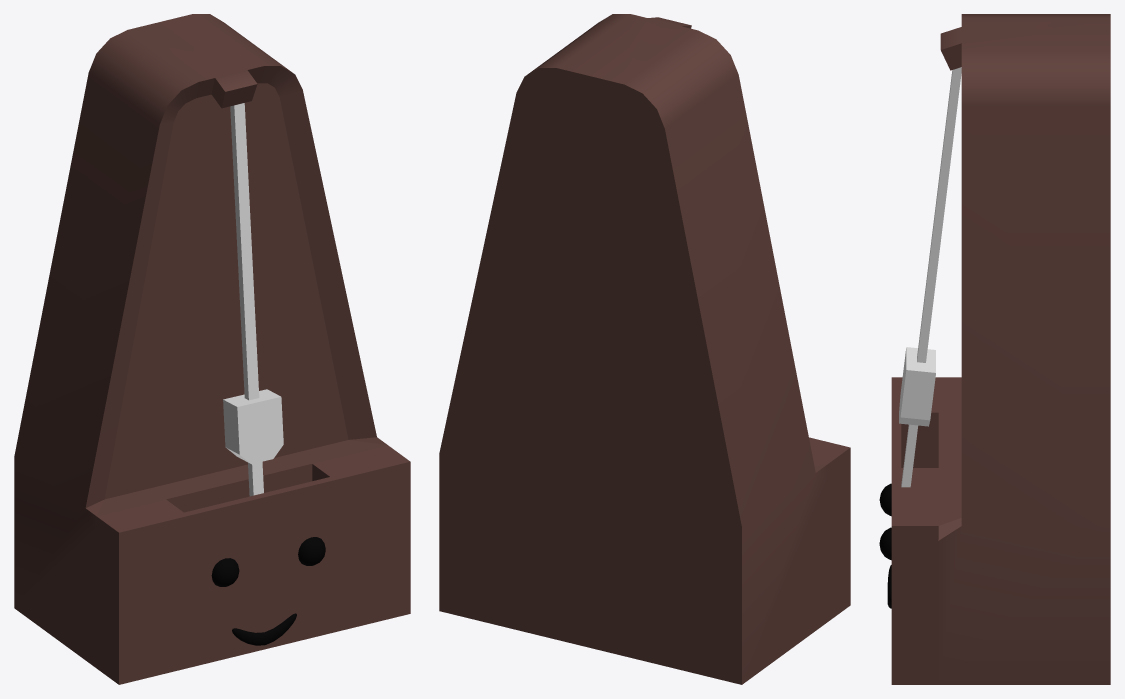
Rendered from metorohuriko.fbx.
3 views of the same model, side by side, from view 1: azimuth 30°, elevation 25°; view 2: azimuth 150°, elevation 25°; view 3: azimuth 270°, elevation 25° (orthographic). The views are drawn at different scales.
Parts seen in each view (by area): view 1: pasted__hidari_me, pasted__pCube6, pasted__pCube5; view 2: pasted__hidari_me; view 3: pasted__hidari_me, pasted__pCube6, pasted__pCube5.
Boxes of the visible parts, x1=… form: pasted__hidari_me: x1=14, y1=14, x2=410, y2=684; pasted__pCube6: x1=230, y1=103, x2=263, y2=496; pasted__pCube5: x1=223, y1=389, x2=283, y2=464; pasted__hidari_me: x1=439, y1=14, x2=850, y2=684; pasted__hidari_me: x1=879, y1=14, x2=1110, y2=684; pasted__pCube6: x1=901, y1=67, x2=961, y2=487; pasted__pCube5: x1=899, y1=347, x2=935, y2=426.
Size of the model in its own units: 3.99 by 7.2 by 2.62.
